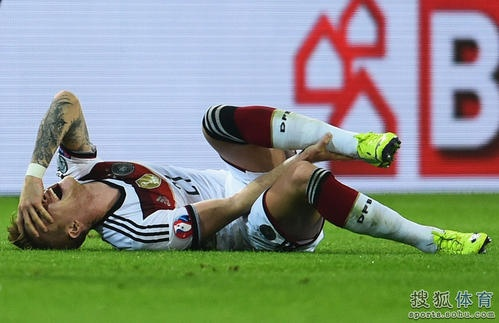falling: (5, 71, 488, 257)
